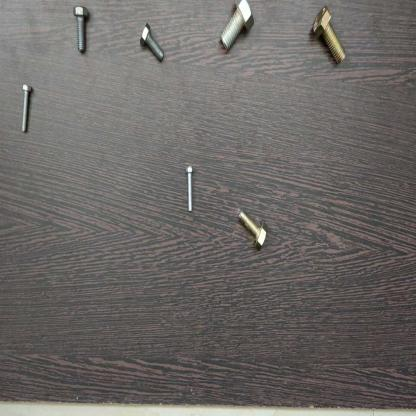Bolts: (310, 7, 348, 70), (219, 0, 256, 56), (235, 201, 268, 255), (136, 19, 166, 63), (70, 3, 91, 59), (183, 158, 199, 216)
